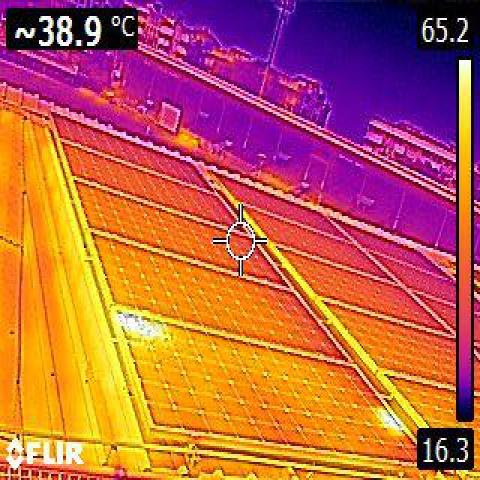fault: (115, 306, 171, 345), (373, 404, 402, 433)
